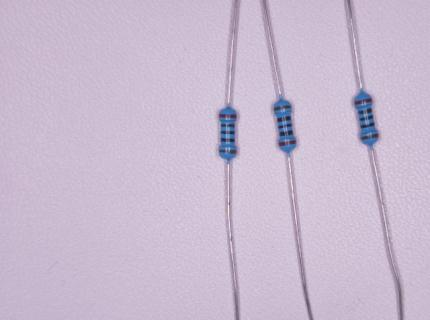Black band: (276, 116, 292, 123), (358, 108, 372, 116), (360, 122, 376, 129), (279, 130, 294, 137), (359, 115, 373, 121), (279, 123, 292, 129), (220, 131, 235, 135), (221, 138, 235, 142), (221, 124, 234, 127)
Brown band: (360, 133, 380, 141), (219, 149, 236, 154), (275, 105, 292, 110)
Red band: (354, 98, 373, 106), (278, 139, 297, 147), (219, 114, 237, 118)
